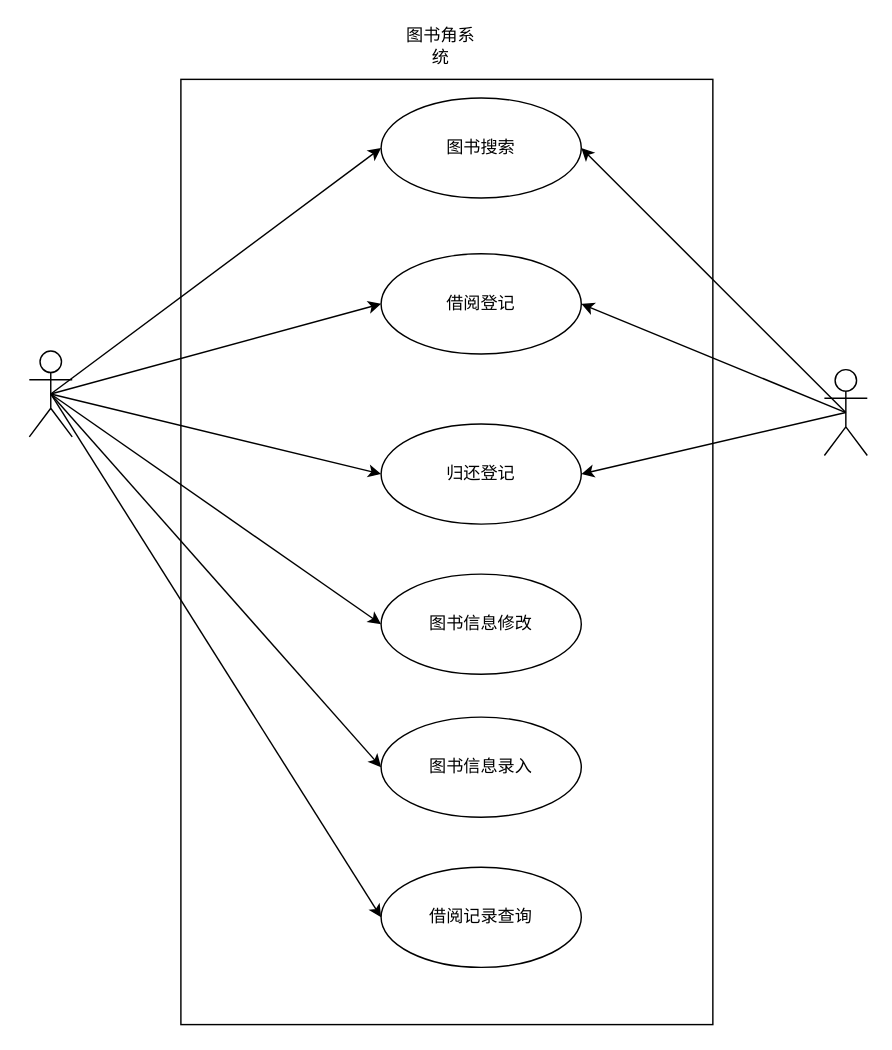
The diagram is 892 pixels wide and 1050 high, and some of its shapes have lost their labels. The centre of each missing label's shape, as x and y in pixels:
"用户" goes at (845,411).
"管理员" goes at (50,393).
